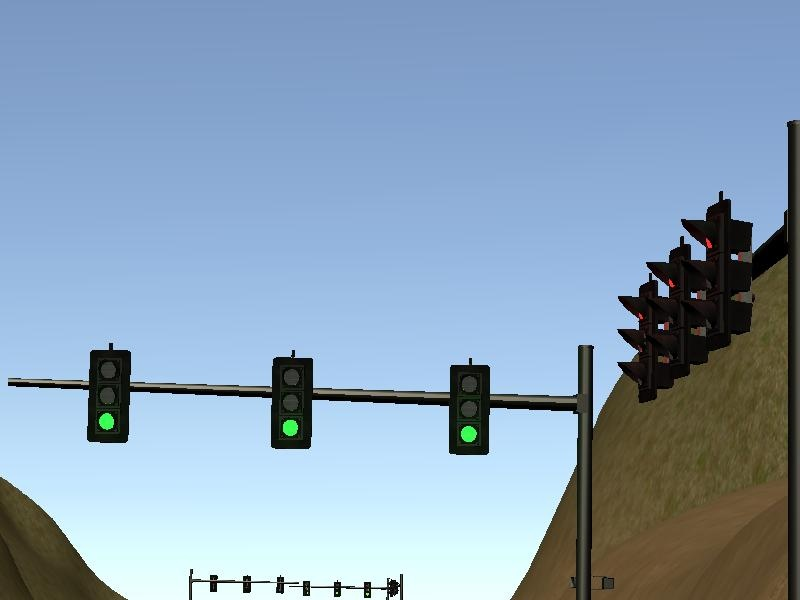green: (267, 348, 316, 454), (86, 345, 135, 448), (446, 358, 493, 456)
